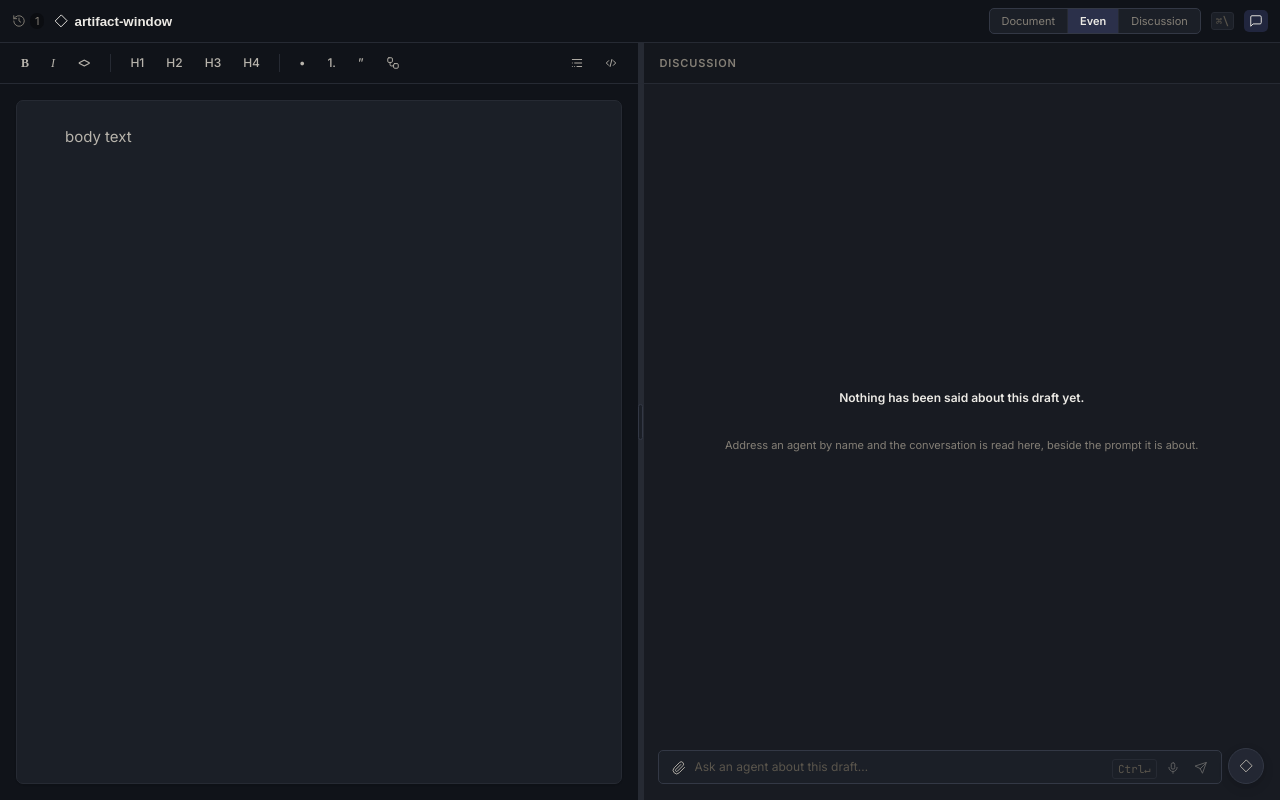
Test case: Publication chooser — opening and root publication › NAW-FR-ZOAS, NAW-FR-FGUI: the Type and milestone controls offer a way to publish without either
Click the button named "Draft actions" at (1246, 766), box [1228,748,1264,784]
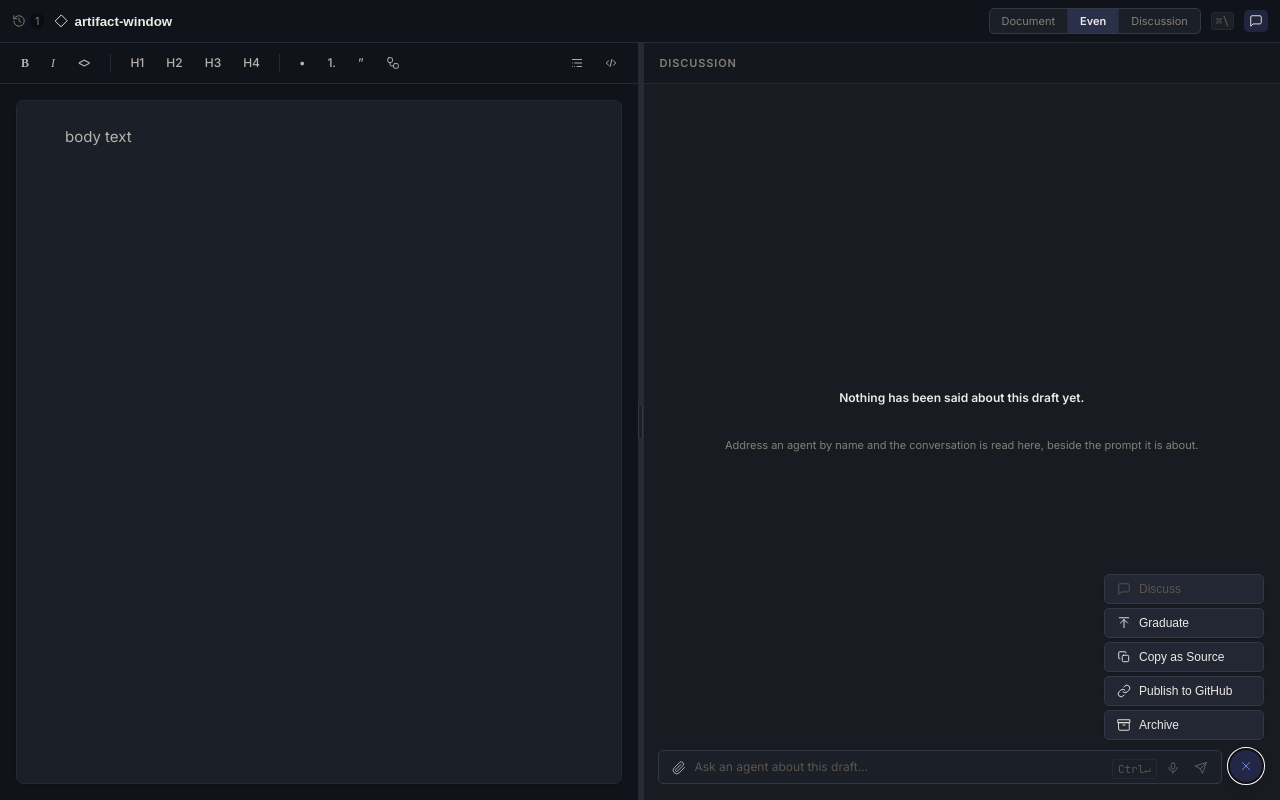
Click the menu item "Publish to GitHub" at (1184, 691), box [1104,676,1264,706]
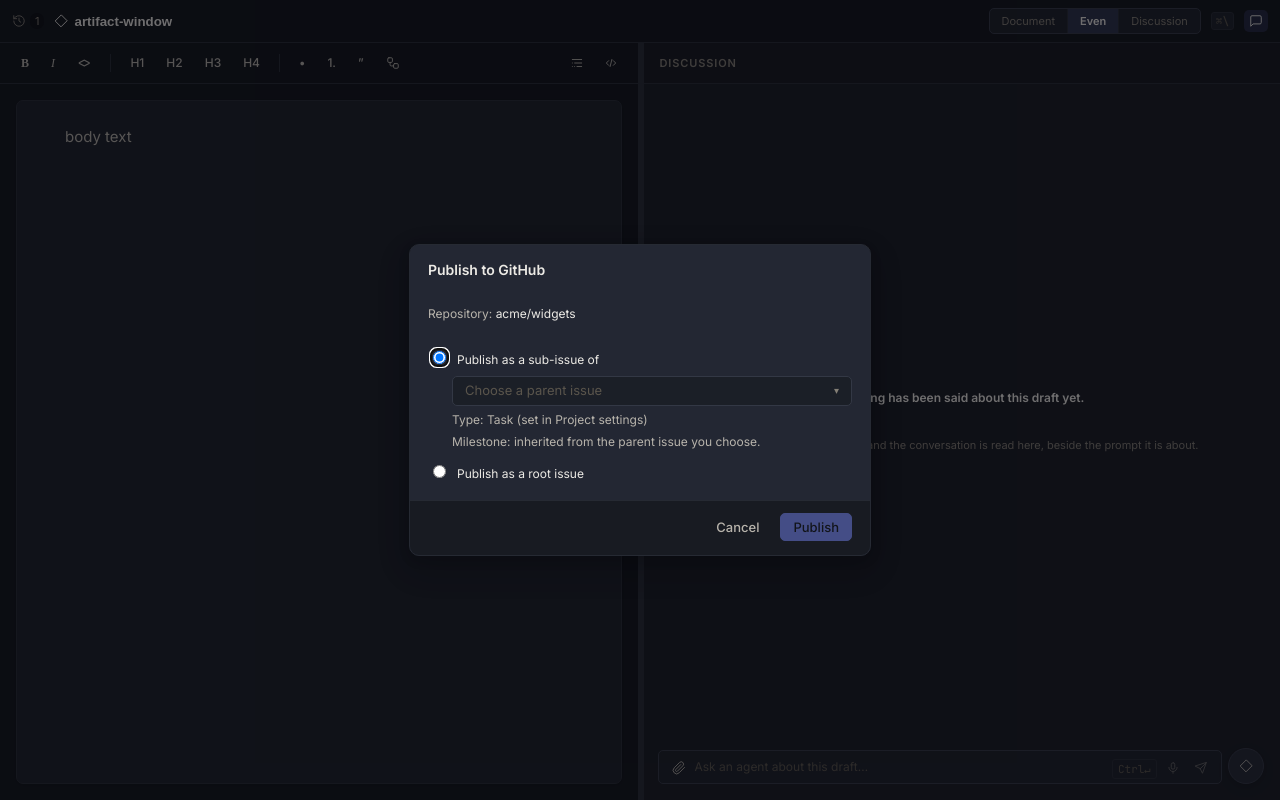
Expected: the dialog named "Publish as a root issue" does not show "Loading", [409,244,871,556]
Click the radio button labelled "Publish as a root issue" at (440, 472), box [433,465,446,478]
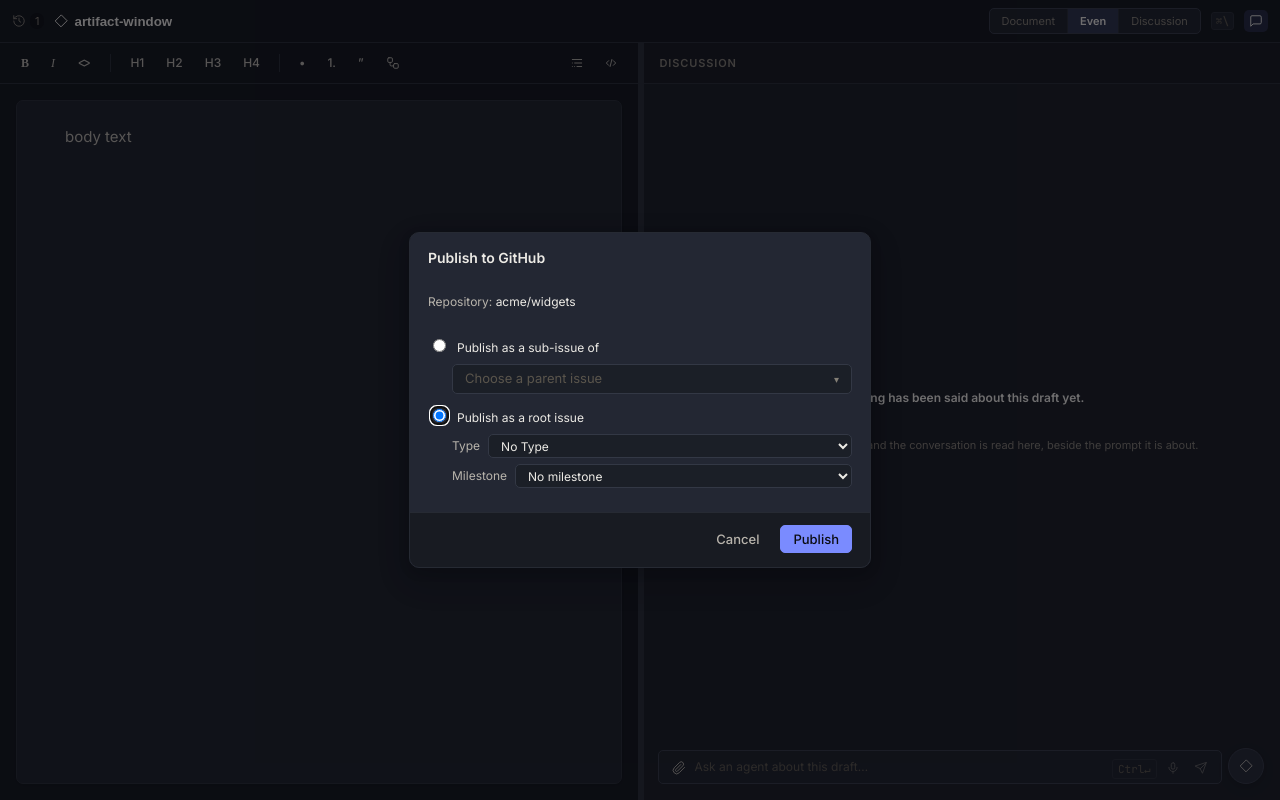
Expected: the dropdown labelled "Type" shows "No Type", [488,434,852,458]
Expected: the dropdown labelled "Milestone" shows "No milestone", [515,464,852,488]
